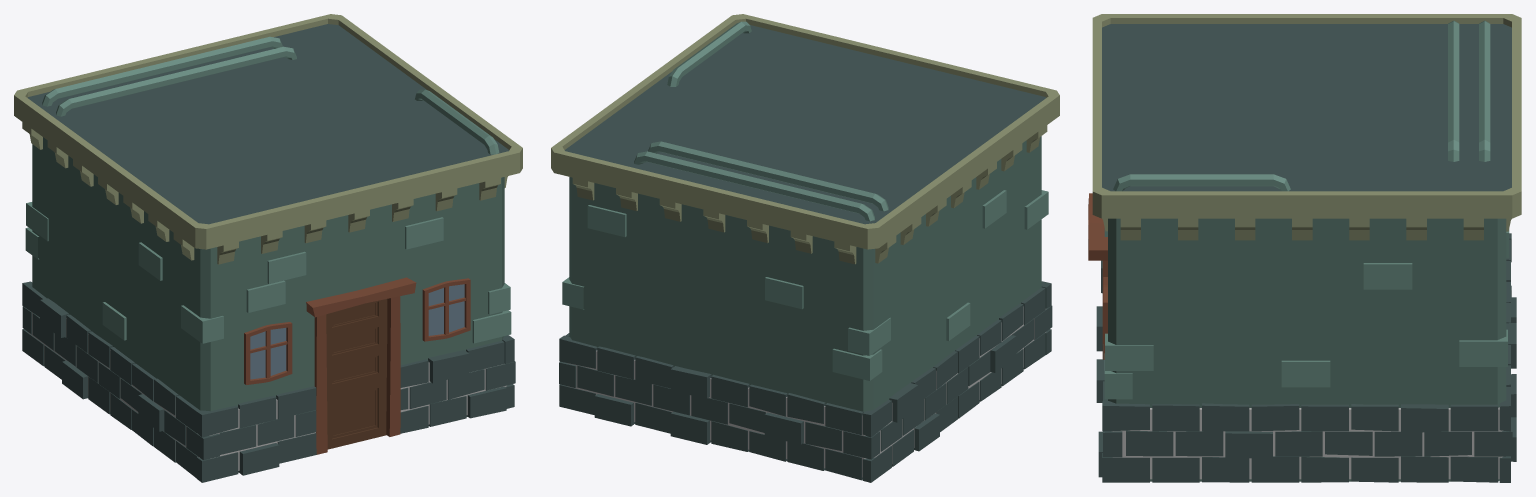
File: 1Story_Mat.gltf
3 views of the same model, side by side, from view 1: azimuth 30°, elevation 25°; view 2: azimuth 150°, elevation 25°; view 3: azimuth 270°, elevation 25° (orthographic). The views are drawn at different scales.
Visible parts, largest first — view 1: o 1Story_Mat_Cube.040; view 2: o 1Story_Mat_Cube.040; view 3: o 1Story_Mat_Cube.040.
Boxes of the visible parts, x1,y1,x2,y2 form: o 1Story_Mat_Cube.040: (14, 14, 522, 482); o 1Story_Mat_Cube.040: (551, 14, 1059, 482); o 1Story_Mat_Cube.040: (1088, 14, 1521, 482).
Bounding box in the file's own units: 2.15 × 1.67 × 2.17.
